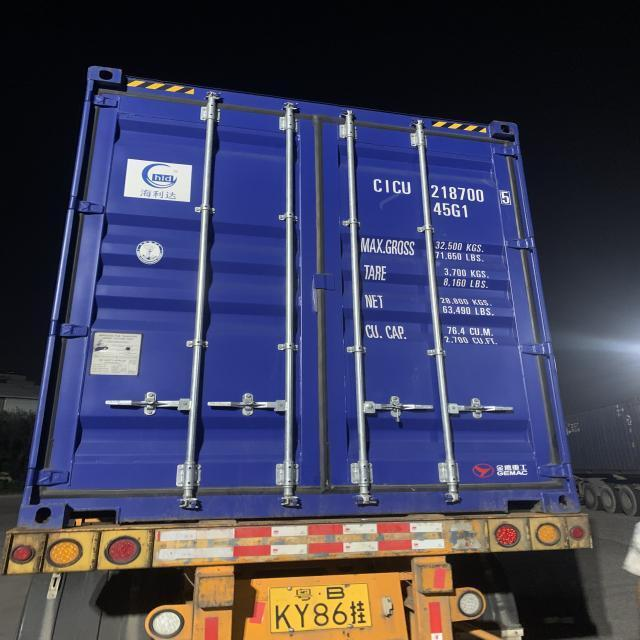ISO: (436, 202, 470, 220)
container_number: (374, 182, 512, 202)
